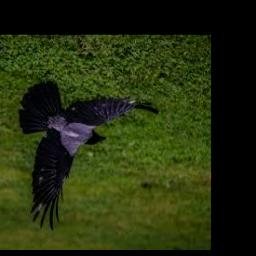Crow: (20, 80, 158, 232)
